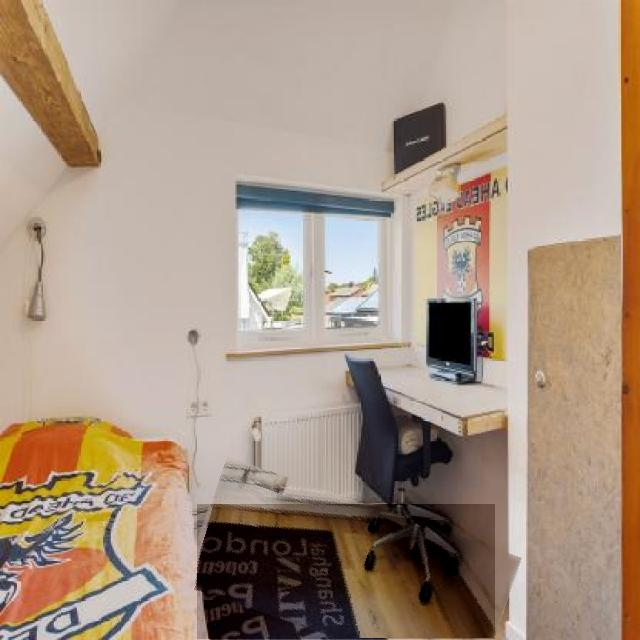floor: (198, 504, 495, 639)
